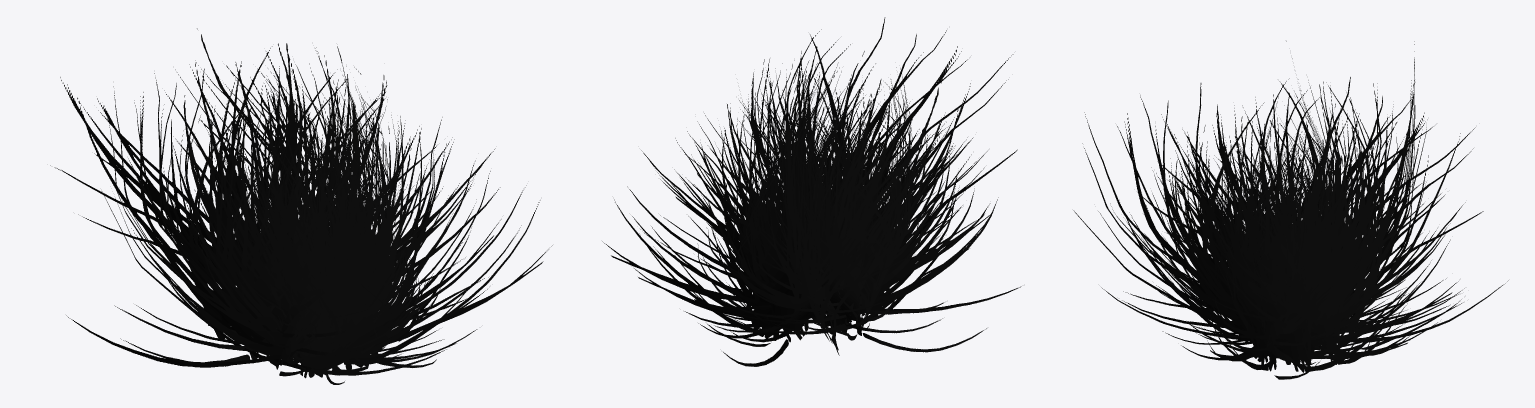
Rendered from WeirdStuffTesting02.fbx.
The picture shows the model from 3 angles, left to right: view 1: azimuth 30°, elevation 25°; view 2: azimuth 150°, elevation 25°; view 3: azimuth 270°, elevation 25°; orthographic projection. The views are drawn at different scales.
Visible parts, largest first — view 1: Plane.011; view 2: Plane.011; view 3: Plane.011.
Part boxes in pixels (left/top/right/bottom): Plane.011: left=50, top=28, right=552, bottom=384; Plane.011: left=602, top=17, right=1021, bottom=366; Plane.011: left=1073, top=41, right=1508, bottom=379.
Size of the model in its own units: 86.93 by 66.34 by 94.7.
